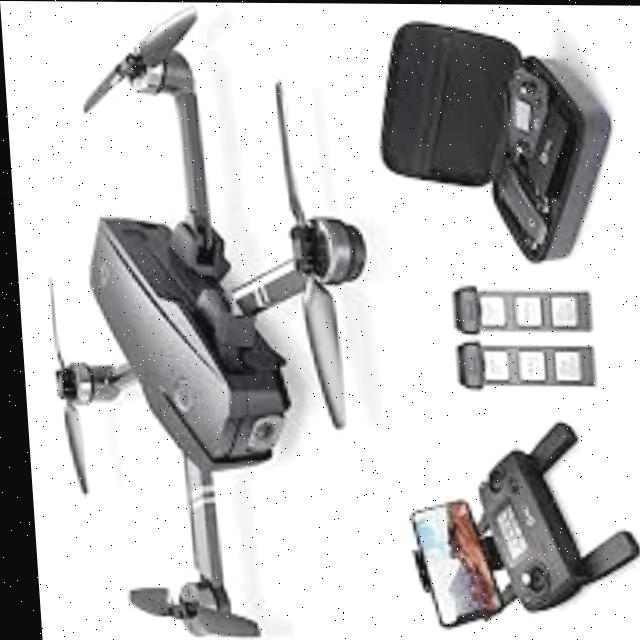drone: (0, 0, 392, 640)
